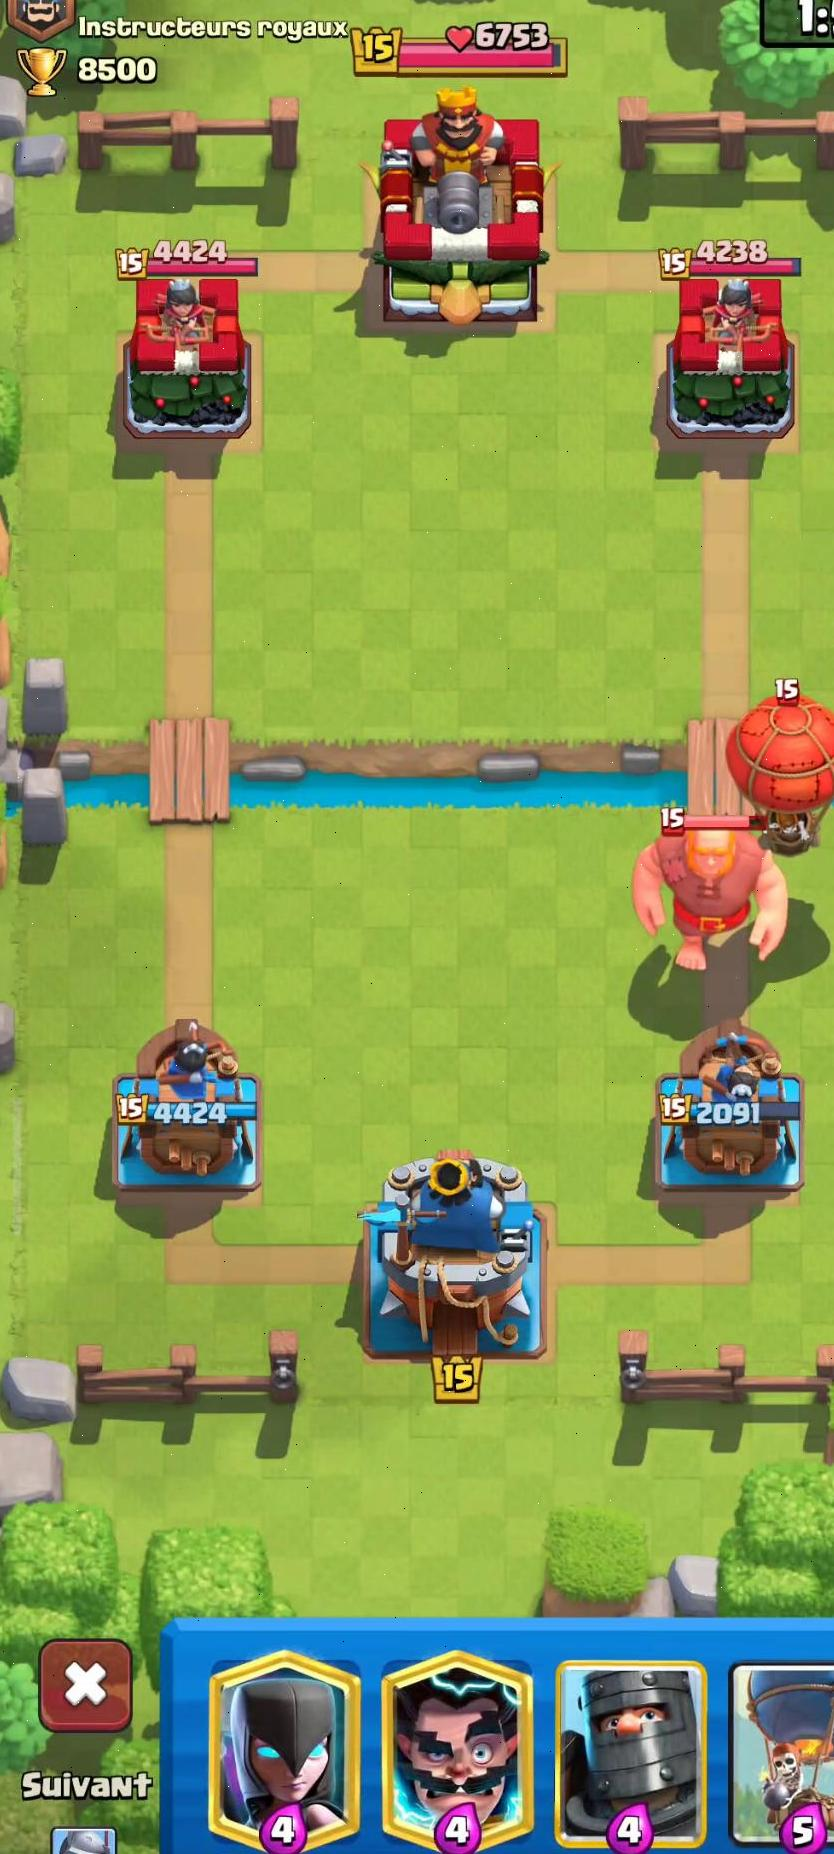enemy_balloon: (717, 682, 834, 849)
enemy_giant: (627, 811, 794, 978)
